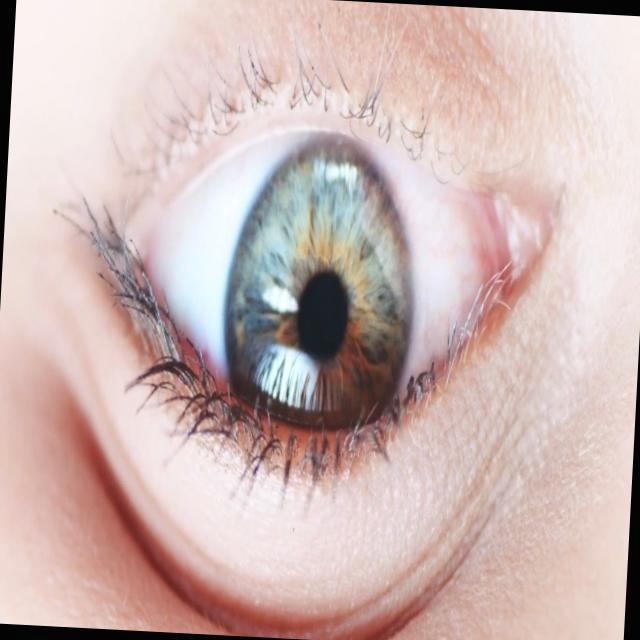Normal: (59, 54, 584, 509)
